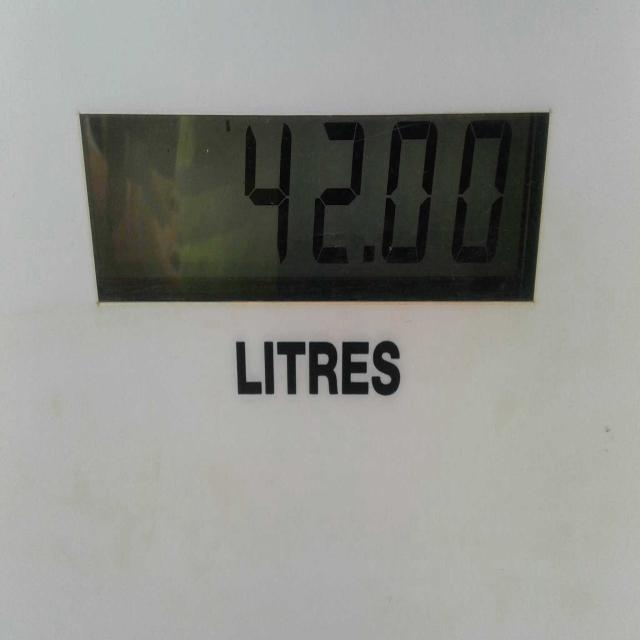.: (354, 230, 384, 287)
0: (377, 118, 446, 294), (450, 111, 517, 274), (233, 124, 302, 278)
2: (312, 118, 364, 270)
